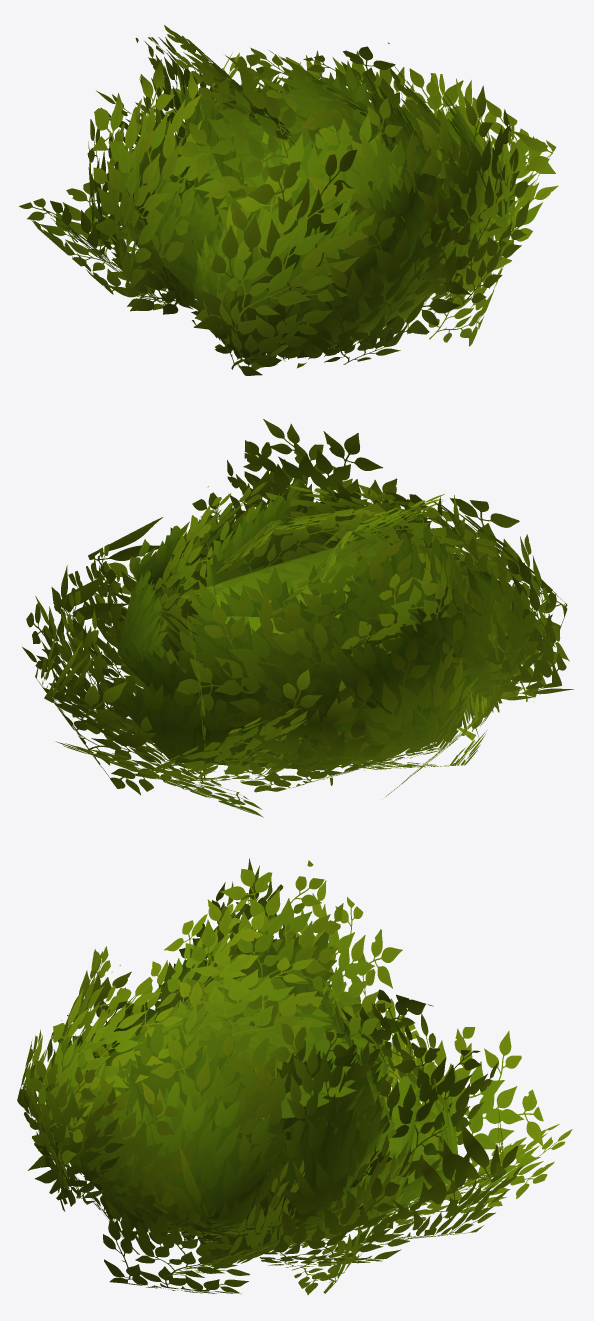
Rendered from Fortnite_Bush.obj.
3 renders of one model, top to bottom at view 1: azimuth 30°, elevation 25°; view 2: azimuth 150°, elevation 25°; view 3: azimuth 270°, elevation 25°, orthographic. The views are drawn at different scales.
Parts seen in each view (by area): view 1: obj1; view 2: obj1; view 3: obj1.
Boxes of the visible parts, <box> form: obj1: <box>19,25,558,375</box>; obj1: <box>22,419,573,817</box>; obj1: <box>17,858,572,1294</box>.
Bounding box in the file's own units: 1.93 × 1.2 × 1.9.
Materials: 1 (1 with a texture image).
